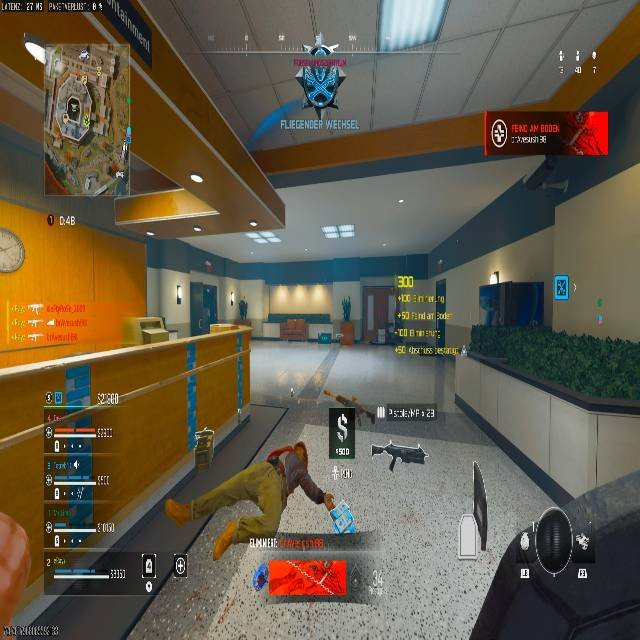head: (0, 504, 37, 631)
player: (293, 43, 346, 109), (340, 296, 351, 321), (238, 297, 248, 321)
